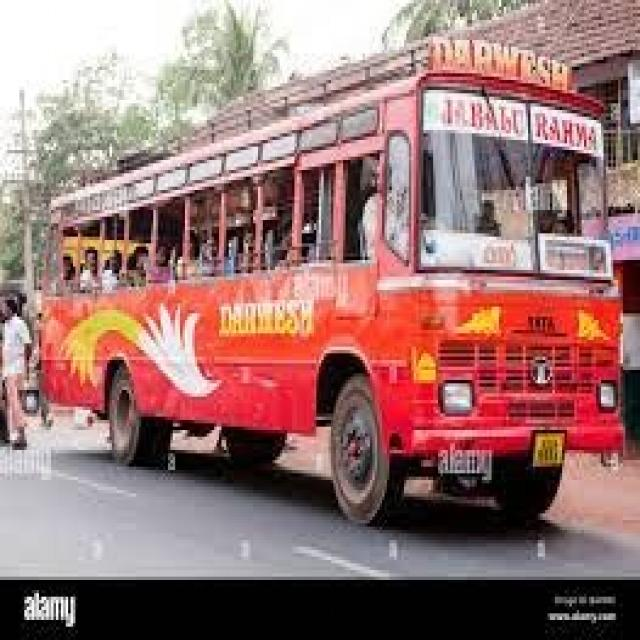bus: (40, 22, 628, 533)
